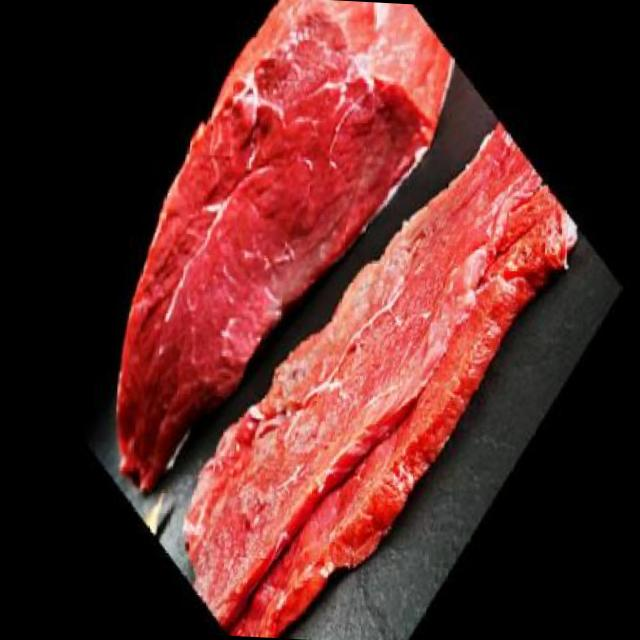beaf: (152, 99, 588, 640), (101, 0, 475, 505)
